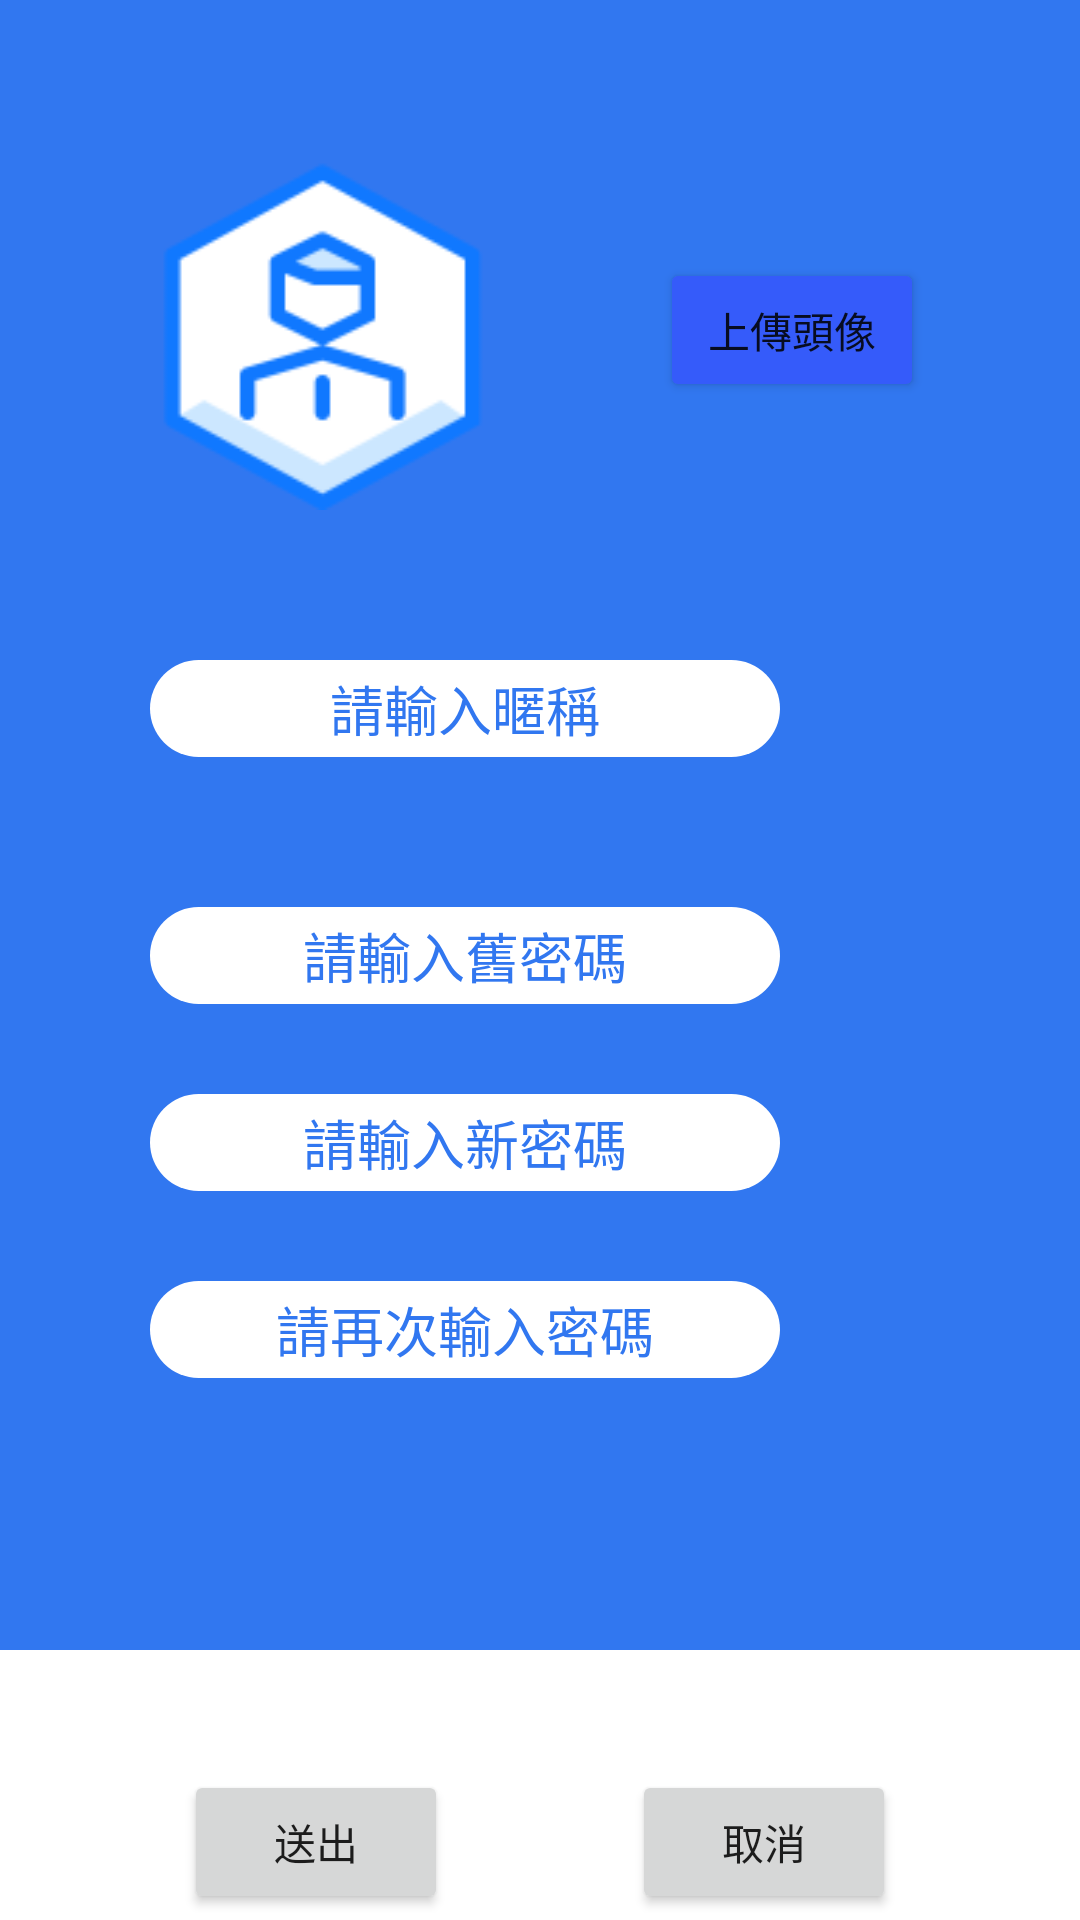

Point at icon controls on the screen. Image size 1080 × 1920, points as (x=x, y=y).
account: (x=322, y=338)
